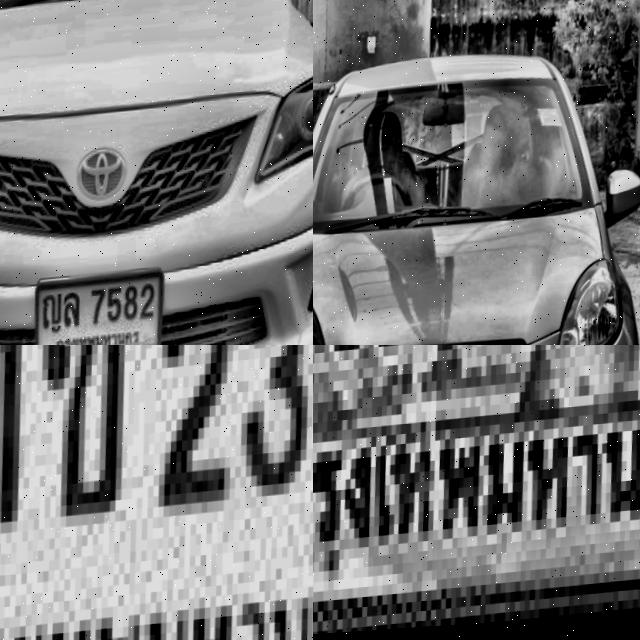license-plate: (313, 345, 640, 640), (0, 345, 313, 640), (32, 265, 172, 345)
